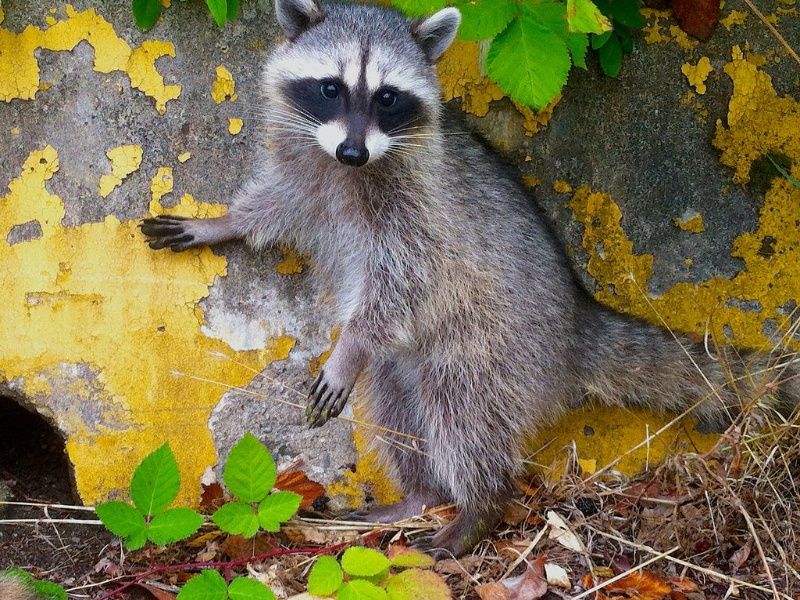raccoon: (138, 1, 800, 552)
